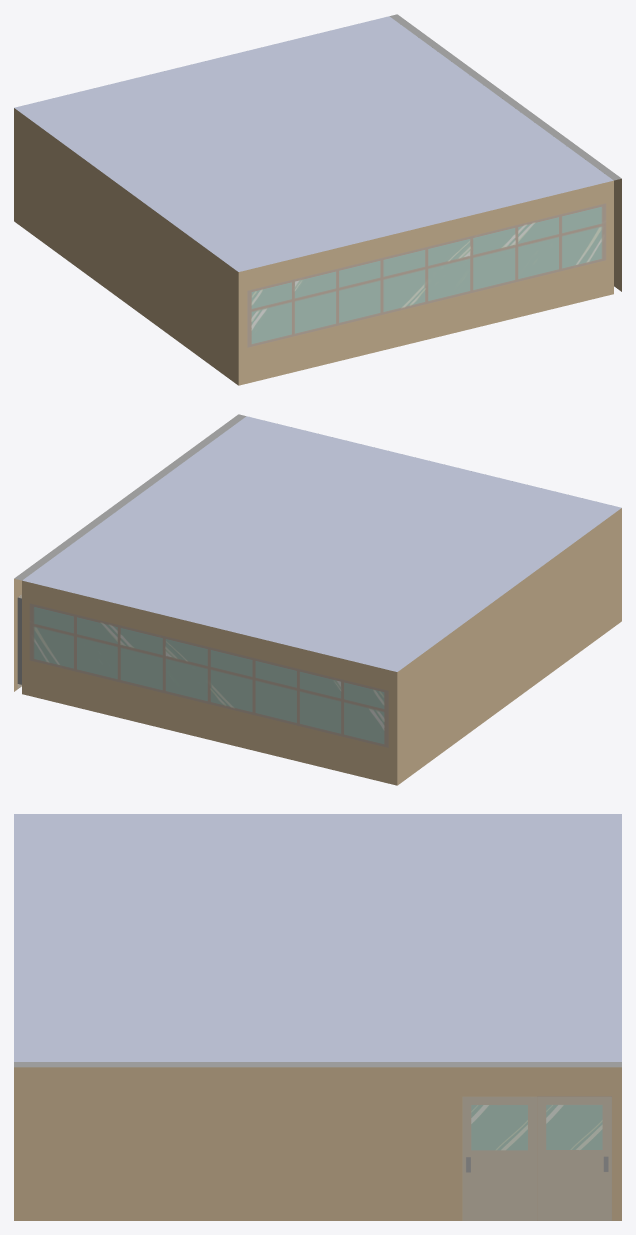
File: ongakushitu_3.fbx
3 renders of one model, top to bottom at view 1: azimuth 30°, elevation 25°; view 2: azimuth 150°, elevation 25°; view 3: azimuth 270°, elevation 25°, orthographic. The views are drawn at different scales.
Parts seen in each view (by area): view 1: tenjou, polySurface2; view 2: tenjou, polySurface2; view 3: tenjou, polySurface2, dore.
Part boxes in pixels (x1,y1,x2,y2): tenjou: (14, 16, 613, 271); polySurface2: (14, 14, 621, 385); tenjou: (22, 416, 621, 671); polySurface2: (14, 414, 621, 785); tenjou: (14, 814, 621, 1061); polySurface2: (14, 1062, 621, 1220); dore: (537, 1096, 611, 1220).
Size of the model in its own units: 24.04 by 6.8 by 24.39.
